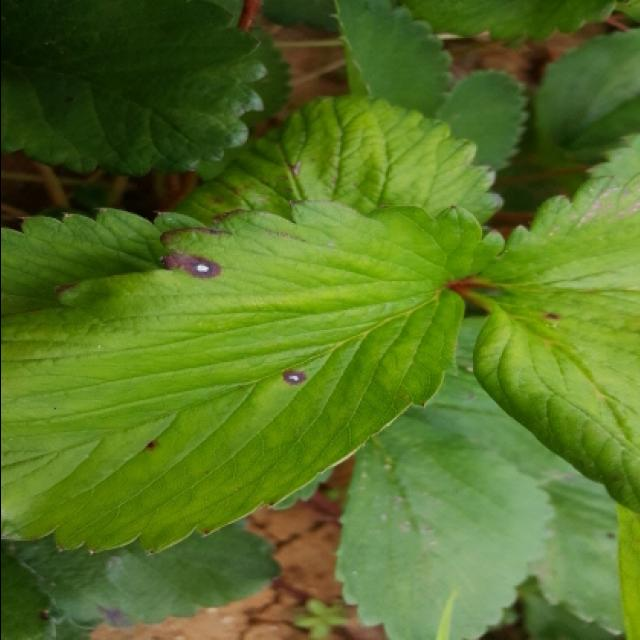Leaf Spot: (2, 198, 483, 558), (456, 172, 640, 519), (167, 92, 504, 226), (10, 518, 281, 629), (533, 475, 624, 636), (2, 542, 66, 640)
